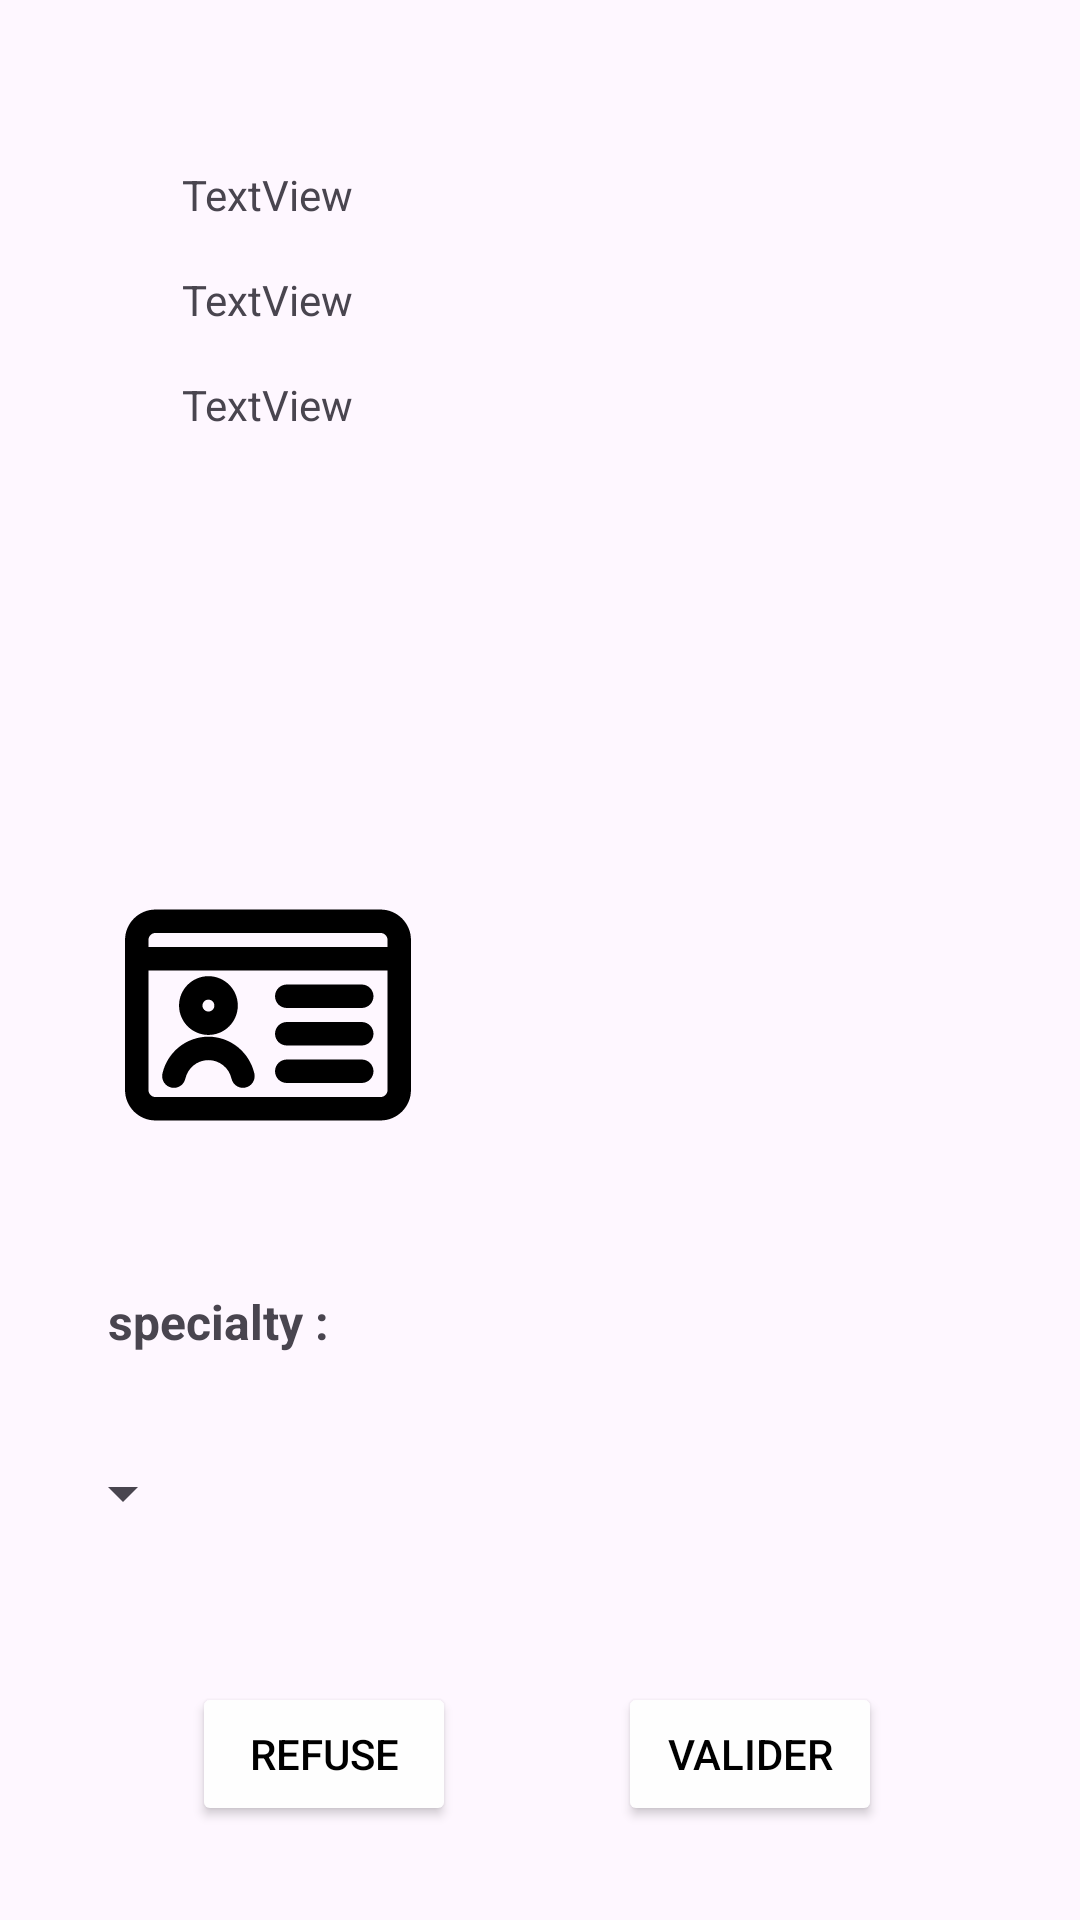

Named icons in this screenshot (1080x1920) and their centers, (x,y):
id card: (268,1015)
